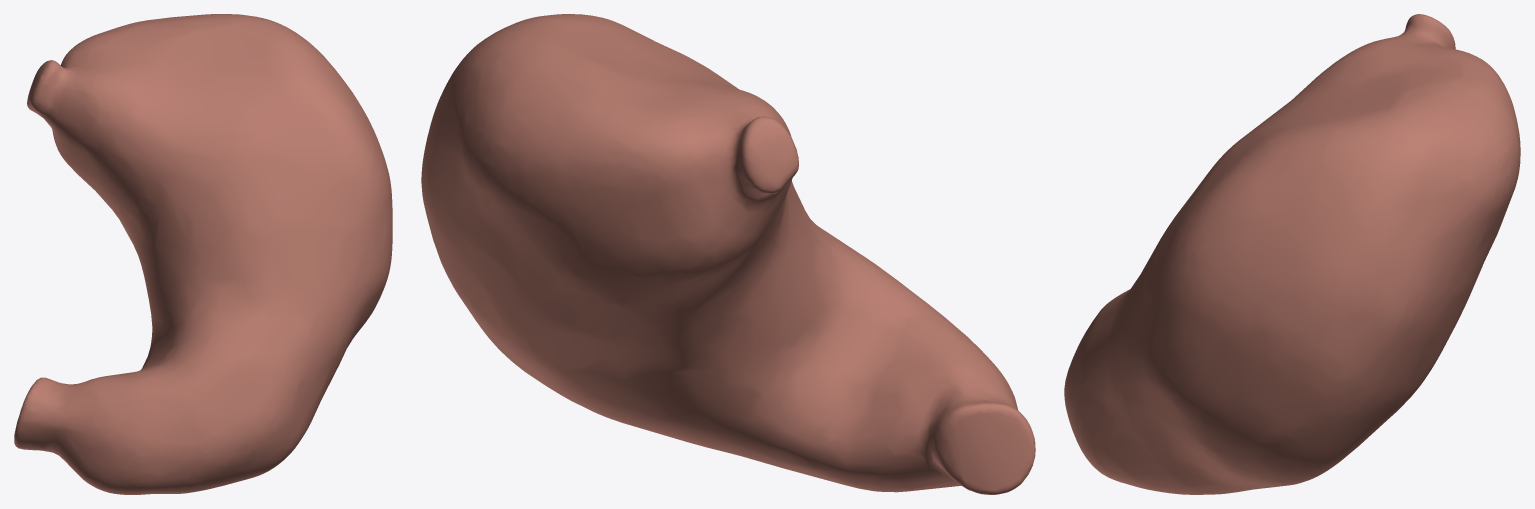
The model's file is explorar-stomach.glb.
3 views of the same model, side by side, from view 1: azimuth 30°, elevation 25°; view 2: azimuth 150°, elevation 25°; view 3: azimuth 270°, elevation 25° (orthographic). The views are drawn at different scales.
Parts seen in each view (by area): view 1: stomach__cuerpo, stomach__fondo, stomach__pilorica, stomach__cardias; view 2: stomach__cuerpo, stomach__fondo, stomach__pilorica, stomach__cardias; view 3: stomach__cuerpo, stomach__fondo.
Part boxes in pixels (x1,y1,x2,y2): stomach__cuerpo: [65, 110, 392, 491]; stomach__fondo: [43, 14, 374, 226]; stomach__pilorica: [14, 347, 253, 494]; stomach__cardias: [27, 62, 160, 224]; stomach__cuerpo: [421, 111, 920, 484]; stomach__fondo: [430, 14, 791, 241]; stomach__pilorica: [805, 291, 1035, 494]; stomach__cardias: [720, 116, 798, 258]; stomach__cuerpo: [1064, 195, 1512, 494]; stomach__fondo: [1175, 14, 1520, 272].
Bounding box in the file's own units: 0.1417 × 0.1202 × 0.1152.
